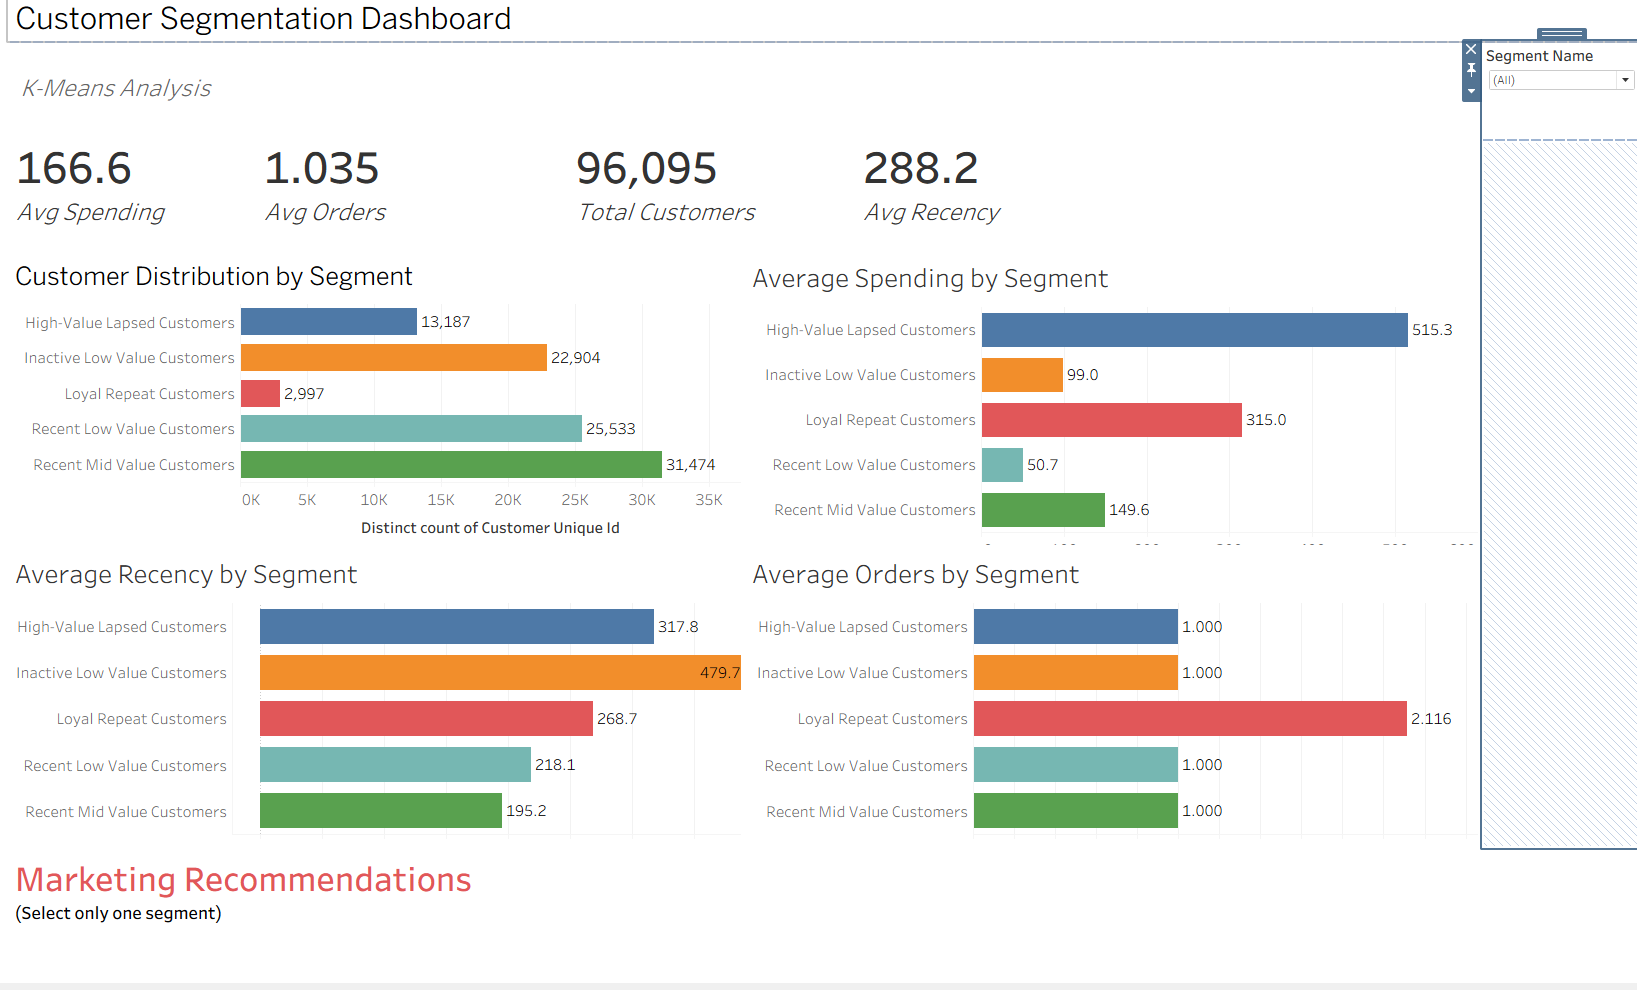

What the dashboard file says about the page in this screenshot:
{"tool":"tableau","page":{"name":"Dashboard 1","canvas":[1650,1200],"ordinal":0},"visuals":[{"type":"title","box":[8,8,1634,46]},{"type":"text","box":[8,54,1474,92.4]},{"type":"filter","title":"Customer Distribution","param":"[federated.1r4e03l0i4ldk21dtds6k1t6sjt0].[none:segment_name:nk]","box":[1482,54,160,98]},{"type":"worksheet","title":"KPI - Avg Spending","mark":"Automatic","box":[8,146.4,248,119.3]},{"type":"worksheet","title":"KPI - Avg Orders","mark":"Automatic","box":[256,146.4,312,119.3]},{"type":"worksheet","title":"KPI - Total Customers","mark":"Automatic","box":[568,146.4,287,119.3]},{"type":"worksheet","title":"KPI - Avg Recency","mark":"Automatic","box":[855,146.4,384,119.3]},{"type":"worksheet","title":"Customer Distribution","mark":"Automatic","rows":["segment_name"],"cols":["customer_unique_id"],"box":[8,265.8,737,296.2]},{"type":"worksheet","title":"Average Spending by Segment","mark":"Automatic","rows":["segment_name"],"cols":["total_spent"],"box":[745,265.8,737,296.2]},{"type":"worksheet","title":"Average Recency by Segment","mark":"Automatic","rows":["segment_name"],"cols":["recency_days"],"box":[8,562,737,299]},{"type":"worksheet","title":"Average Orders by Segment","mark":"Automatic","rows":["segment_name"],"cols":["total_orders"],"box":[745,562,737,299]},{"type":"worksheet","title":"Marketing Recommendations","mark":"Automatic","box":[8,861,1634,331]}]}

Visuals, with their boxes on the page's 1650x1200 design canvas (x1, y1, x2, y2). These are canvas units, not pixel positions in the 1637x990 screenshot, which may show the page scaled, cropped or inside an application window:
title: 8 8 1642 54
text: 8 54 1482 146
"Customer Distribution" filter: 1482 54 1642 152
"KPI - Avg Spending" worksheet: 8 146 256 266
"KPI - Avg Orders" worksheet: 256 146 568 266
"KPI - Total Customers" worksheet: 568 146 855 266
"KPI - Avg Recency" worksheet: 855 146 1239 266
"Customer Distribution" worksheet: 8 266 745 562
"Average Spending by Segment" worksheet: 745 266 1482 562
"Average Recency by Segment" worksheet: 8 562 745 861
"Average Orders by Segment" worksheet: 745 562 1482 861
"Marketing Recommendations" worksheet: 8 861 1642 1192
